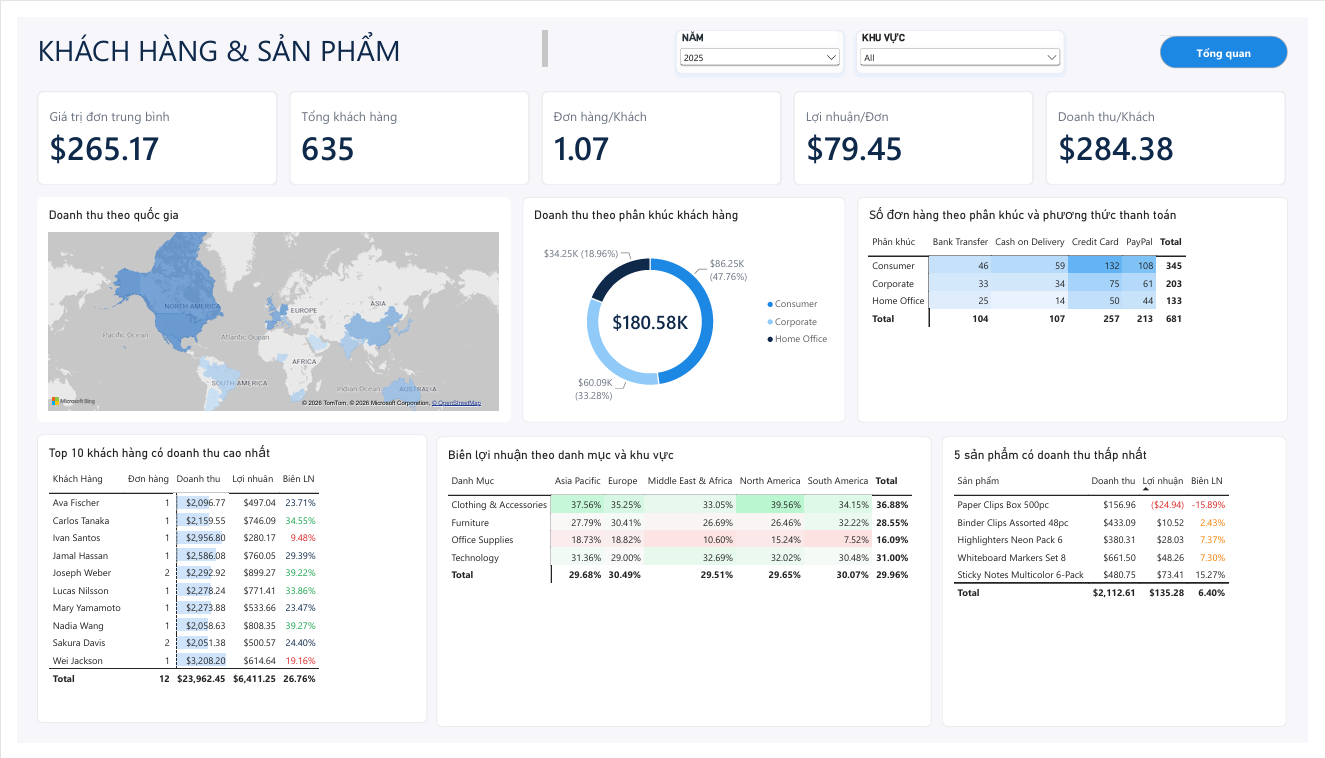

This screenshot's page, from the dashboard's own definition file:
{"tool":"powerbi","page":{"name":"Khách hàng & Sản phẩm","canvas":[1920,1080],"ordinal":1},"visuals":[{"type":"cardVisual","fields":{"Data":["Measure Group.Total Customers"]},"box":[405,110,357,140],"z":0},{"type":"cardVisual","fields":{"Data":["Measure Group.AOV"]},"box":[30,110,357,140],"z":1000},{"type":"cardVisual","fields":{"Data":["Measure Group.Orders per Customer"]},"box":[780,110,357,140],"z":2000},{"type":"cardVisual","fields":{"Data":["Measure Group.Profit per Order"]},"box":[1155,110,357,140],"z":3000},{"type":"cardVisual","fields":{"Data":["Measure Group.Sales per Customer"]},"box":[1530,110,357,140],"z":4000},{"type":"textbox","box":[30,20,760,64],"z":5000},{"type":"filledMap","title":"Doanh thu theo quốc gia","fields":{"Category":["global_ecommerce_sales.Country"]},"box":[30,268,704,335],"z":6000},{"type":"donutChart","title":"Doanh thu theo phân khúc khách hàng","fields":{"Category":["global_ecommerce_sales.Customer_Segment"],"Y":["Measure Group.Total Sales"]},"box":[752,268,480,335],"z":7000},{"type":"pivotTable","title":"Số đơn hàng theo phân khúc và phương thức thanh toán","fields":{"Columns":["global_ecommerce_sales.Payment_Method"],"Rows":["global_ecommerce_sales.Customer_Segment"],"Values":["Measure Group.Total Orders"]},"box":[1250,268,640,335],"z":8000},{"type":"tableEx","title":"Top 10 khách hàng có doanh thu cao nhất","fields":{"Values":["global_ecommerce_sales.Customer_Name","Measure Group.Total Orders","Measure Group.Total Sales","Measure Group.Total Profits","Measure Group.Profit Margin"]},"box":[30,621,580,429],"z":9000},{"type":"pivotTable","title":"Biên lợi nhuận theo danh mục và khu vực","fields":{"Columns":["global_ecommerce_sales.Region"],"Rows":["global_ecommerce_sales.Product_Category"],"Values":["Measure Group.Profit Margin"]},"box":[624,624,736,432],"z":10000},{"type":"tableEx","title":"5 sản phẩm có doanh thu thấp nhất","fields":{"Values":["global_ecommerce_sales.Product_Name","Measure Group.Total Sales","Measure Group.Total Profits","Measure Group.Profit Margin"]},"box":[1376,624,512,432],"z":11000},{"type":"slicer","fields":{"Values":["Date.Date.Variation.Date Hierarchy.Year"]},"box":[980,20,250,64],"z":11001},{"type":"slicer","fields":{"Values":["global_ecommerce_sales.Region"]},"box":[1248,20,310,64],"z":11002},{"type":"shape","box":[1700,28,190,48],"z":11003}]}

Visuals, with their boxes in screenshot pixels (x1, y1, x2, y2), scaled from the page's 1920x1080 canvas onto the 1325x758 screenshot:
cardVisual - Measure Group.Total Customers: x1=279 y1=77 x2=526 y2=175
cardVisual - Measure Group.AOV: x1=21 y1=77 x2=267 y2=175
cardVisual - Measure Group.Orders per Customer: x1=538 y1=77 x2=785 y2=175
cardVisual - Measure Group.Profit per Order: x1=797 y1=77 x2=1043 y2=175
cardVisual - Measure Group.Sales per Customer: x1=1056 y1=77 x2=1302 y2=175
textbox: x1=21 y1=14 x2=545 y2=59
"Doanh thu theo quốc gia" filledMap: x1=21 y1=188 x2=507 y2=423
"Doanh thu theo phân khúc khách hàng" donutChart: x1=519 y1=188 x2=850 y2=423
"Số đơn hàng theo phân khúc và phương thức thanh toán" pivotTable: x1=863 y1=188 x2=1304 y2=423
"Top 10 khách hàng có doanh thu cao nhất" tableEx: x1=21 y1=436 x2=421 y2=737
"Biên lợi nhuận theo danh mục và khu vực" pivotTable: x1=431 y1=438 x2=939 y2=741
"5 sản phẩm có doanh thu thấp nhất" tableEx: x1=950 y1=438 x2=1303 y2=741
slicer - Date.Date.Variation.Date Hierarchy.Year: x1=676 y1=14 x2=849 y2=59
slicer - global_ecommerce_sales.Region: x1=861 y1=14 x2=1075 y2=59
shape: x1=1173 y1=20 x2=1304 y2=53
